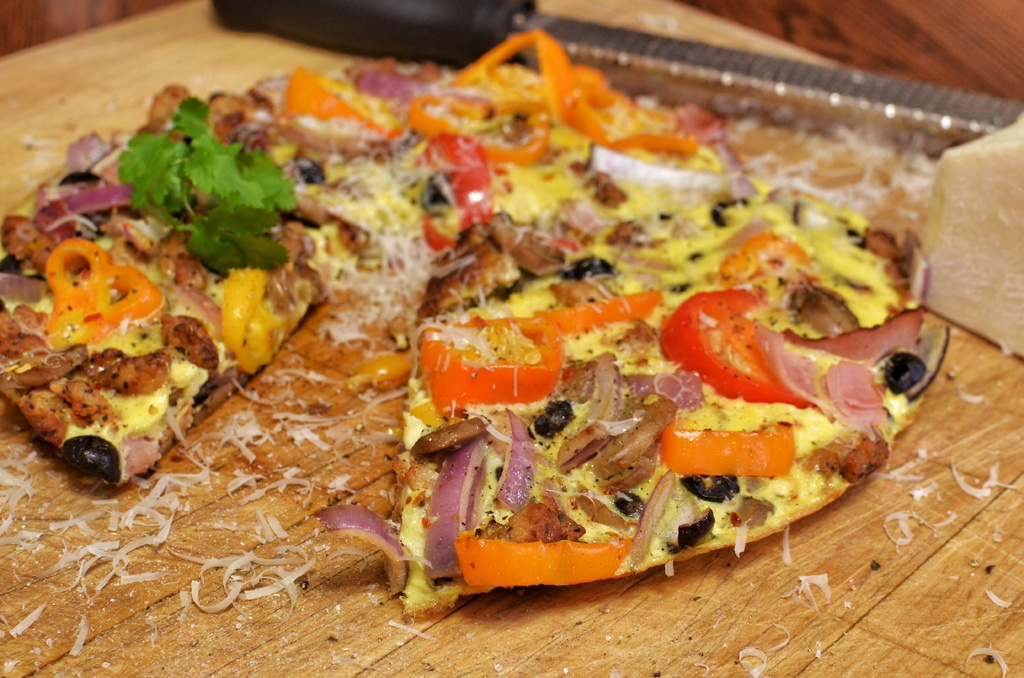Pizza: (0, 24, 947, 615)
